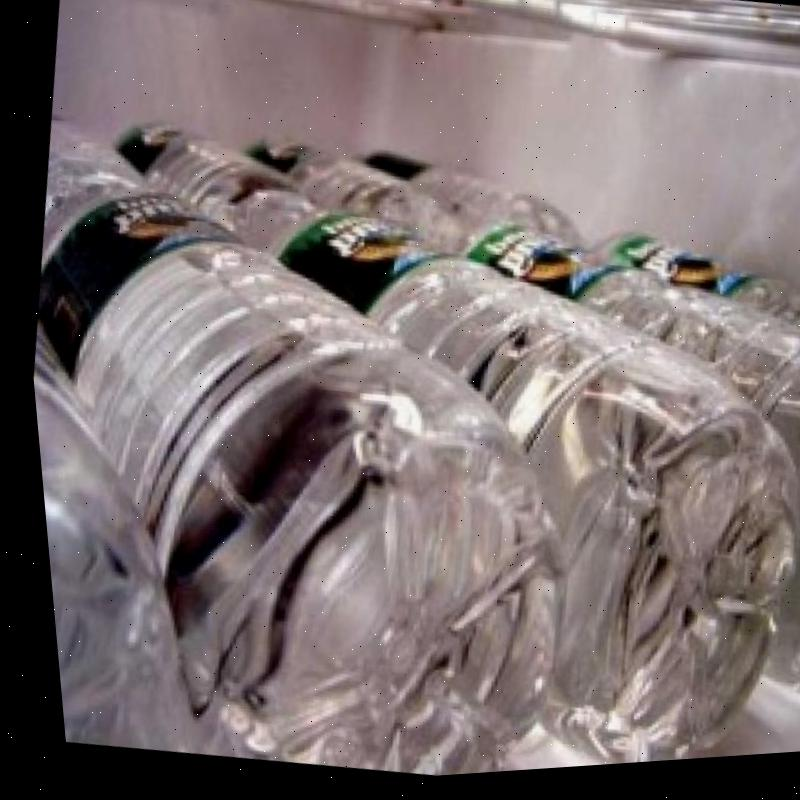botella: (116, 153, 800, 795), (11, 134, 622, 800), (275, 180, 800, 728), (22, 300, 233, 759), (566, 220, 800, 370), (341, 140, 584, 267), (228, 124, 453, 252), (102, 111, 309, 224), (40, 106, 143, 179)
